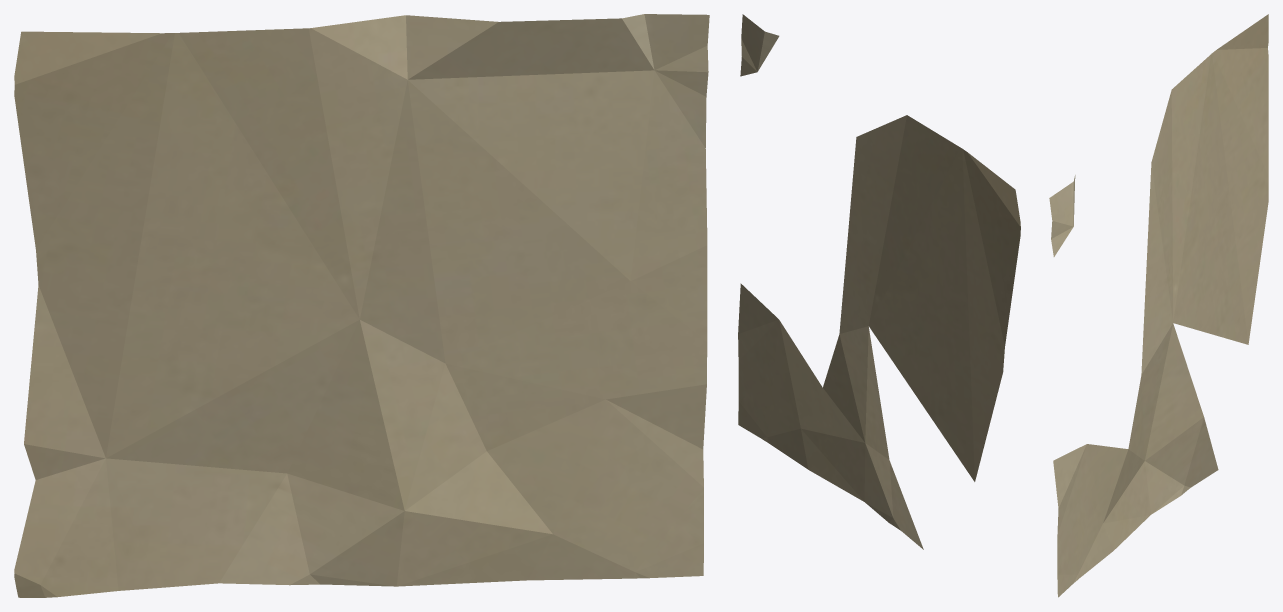
3 renders of one model, left to right at view 1: azimuth 30°, elevation 25°; view 2: azimuth 150°, elevation 25°; view 3: azimuth 270°, elevation 25°, orthographic. The views are drawn at different scales.
Size of the model in its own units: 0.8374 by 0.8374 by 0.416.
Materials: 3 (3 with a texture image).
